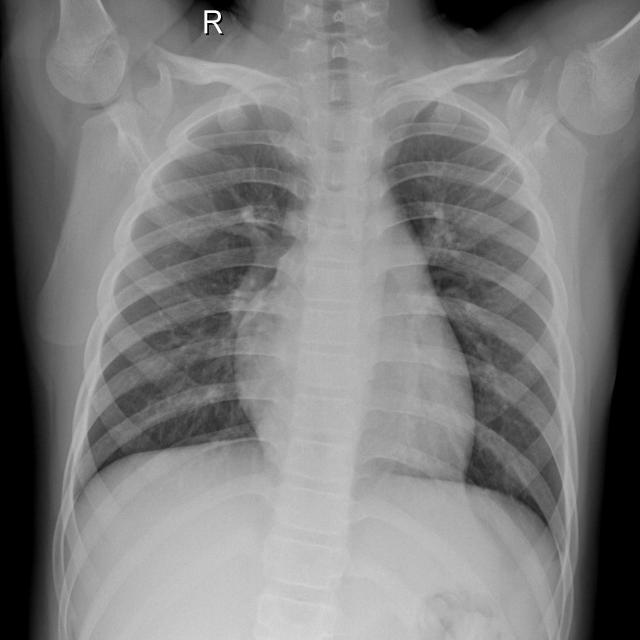no-pneumonia: (66, 103, 311, 502), (382, 82, 573, 553)
